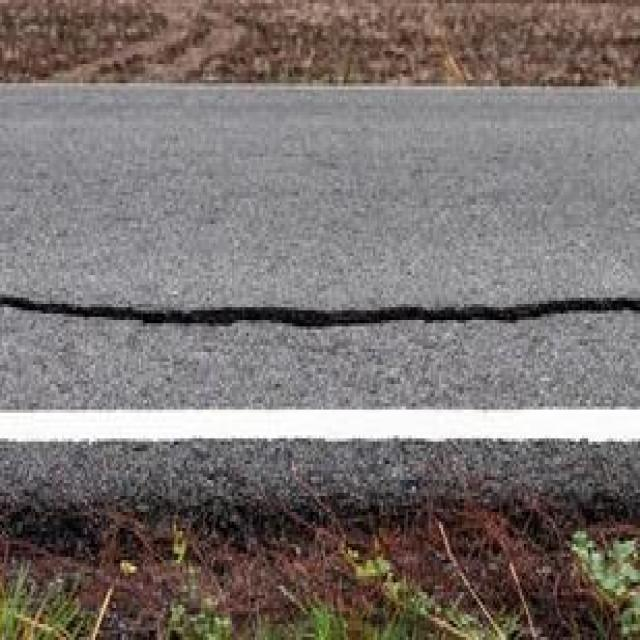Drain Hole: (0, 242, 640, 352)
